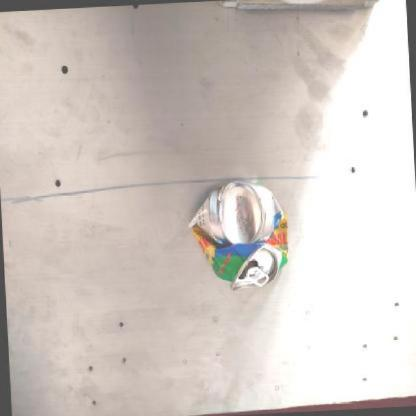Can: (179, 167, 311, 305)
